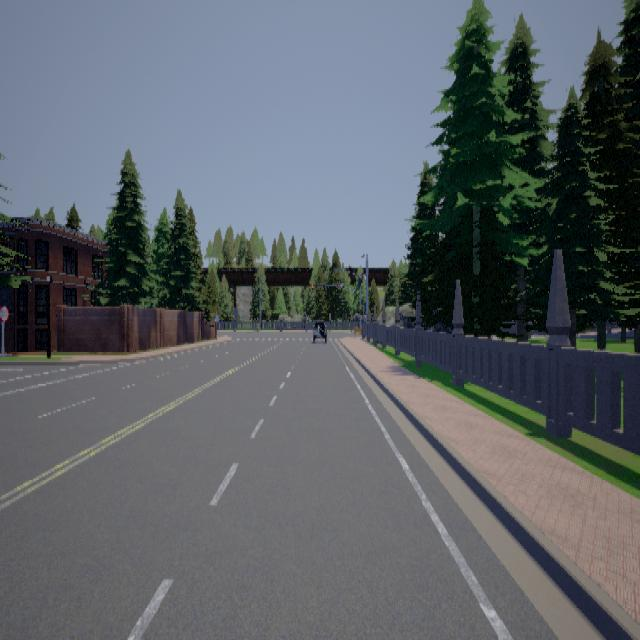traffic_sign: (0, 305, 8, 320)
vehicle: (311, 320, 327, 340)
